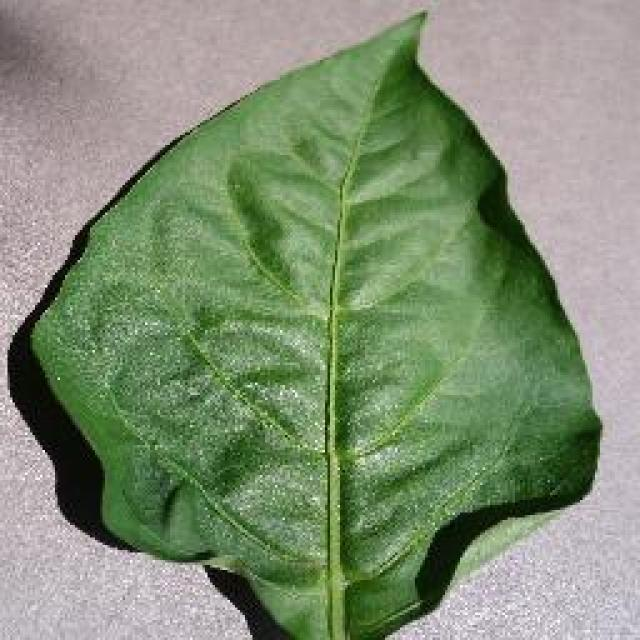Leaf: (83, 86, 546, 513)
